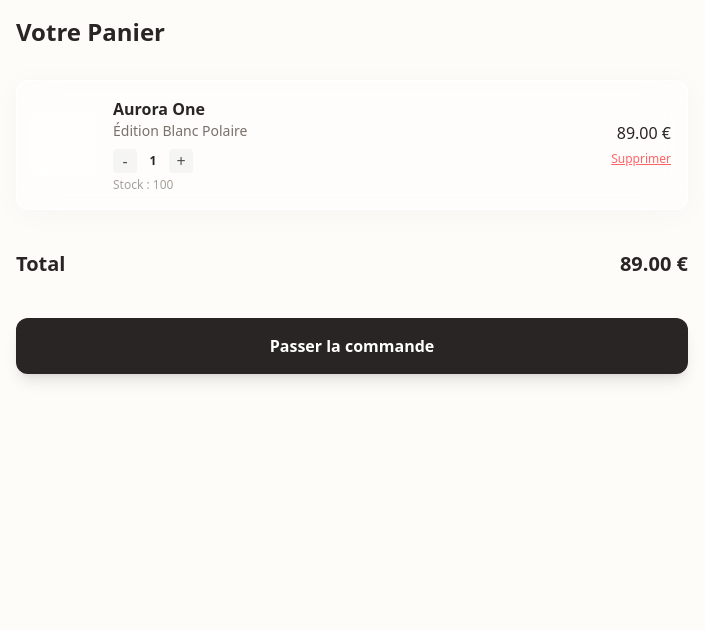
Test: pages/cart.vue › checkout / address step › back button returns to delivery step
Click the button "Passer la commande" at (352, 346), box [16,318,688,374]
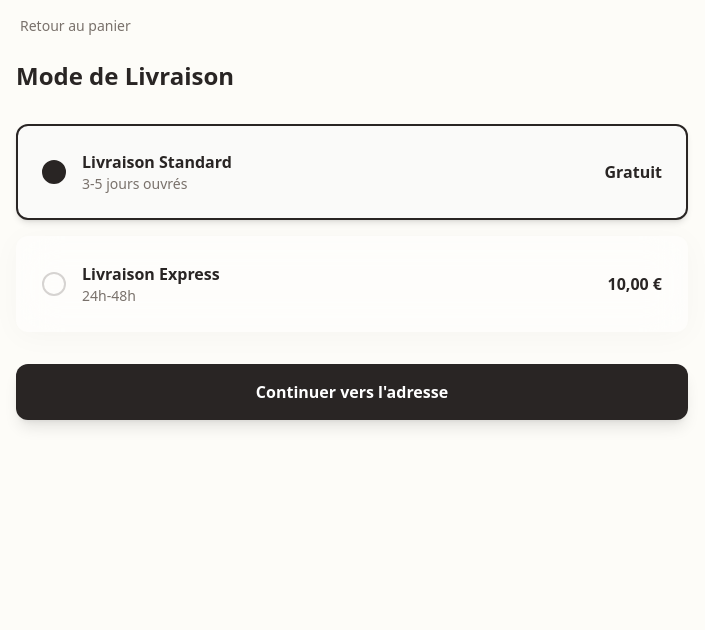
Click the button "Continuer vers l'adresse" at (352, 392), box [16,364,688,420]
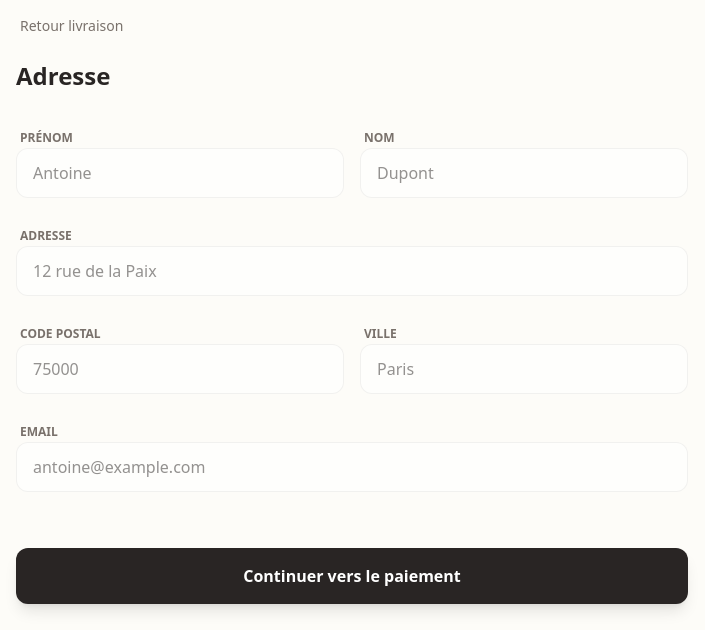
Click the button "Retour livraison" at (70, 26), box [16,16,123,36]
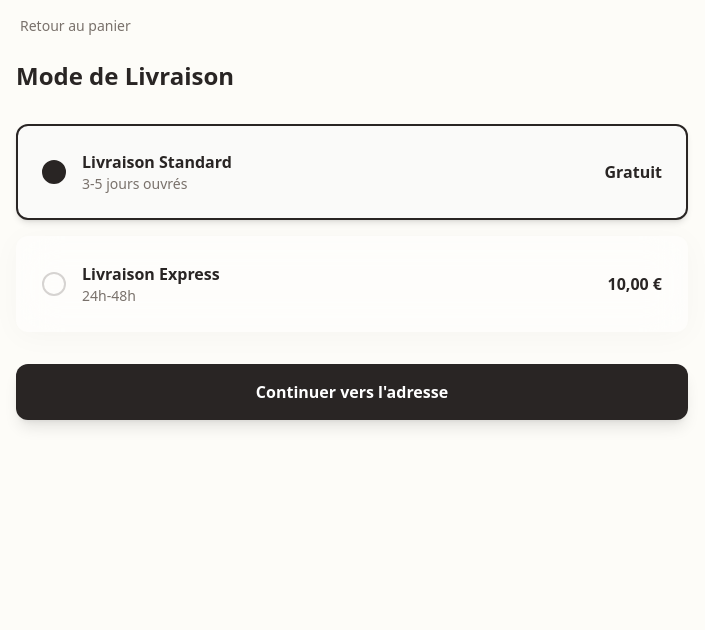
Expected: the text "Mode de Livraison" is shown, [16,59,234,92]
